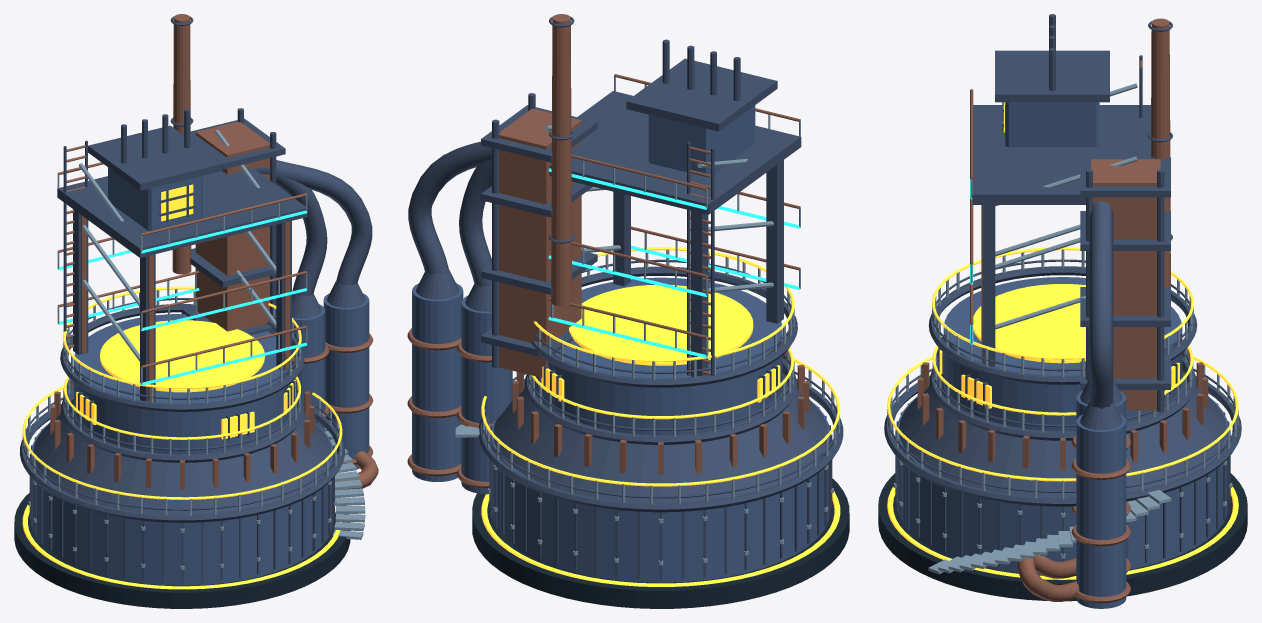
The model's file is furnace-v2.glb.
The picture shows the model from 3 angles, left to right: view 1: azimuth 30°, elevation 25°; view 2: azimuth 150°, elevation 25°; view 3: azimuth 270°, elevation 25°; orthographic projection. The views are drawn at different scales.
Parts seen in each view (by area): view 1: Riveted base drum, Sloped furnace skirt, Upper furnace drum, Main gantry deck, Circular concrete foundation, Visible furnace core, Service tower, Hot blast stove.001, Crown roof, Catwalk edge, Curved downcomer.001, Catwalk edge.002 (+33 smaller); view 2: Riveted base drum, Sloped furnace skirt, Upper furnace drum, Service tower, Circular concrete foundation, Main gantry deck, Visible furnace core, Hot blast stove.001, Crown roof, Factory chimney, Hot blast stove, Furnace control house (+25 smaller); view 3: Sloped furnace skirt, Riveted base drum, Main gantry deck, Service tower, Upper furnace drum, Hot blast stove.001, Circular concrete foundation, Visible furnace core, Crown roof, Curved downcomer.001, Furnace control house, Catwalk edge (+21 smaller).
Part boxes in pixels (bbox=[...]): Riveted base drum: bbox=[31, 422, 333, 585]; Sloped furnace skirt: bbox=[33, 399, 331, 514]; Upper furnace drum: bbox=[74, 314, 289, 454]; Main gantry deck: bbox=[57, 168, 307, 257]; Circular concrete foundation: bbox=[14, 493, 350, 608]; Visible furnace core: bbox=[100, 320, 264, 392]; Service tower: bbox=[195, 121, 269, 331]; Hot blast stove.001: bbox=[323, 293, 369, 469]; Crown roof: bbox=[88, 125, 222, 190]; Catwalk edge: bbox=[19, 404, 344, 522]; Curved downcomer.001: bbox=[258, 160, 372, 285]; Catwalk edge.002: bbox=[60, 304, 304, 411]; Riveted base drum: bbox=[491, 399, 830, 582]; Sloped furnace skirt: bbox=[493, 373, 828, 502]; Upper furnace drum: bbox=[539, 277, 782, 435]; Service tower: bbox=[499, 109, 581, 377]; Circular concrete foundation: bbox=[472, 478, 849, 608]; Main gantry deck: bbox=[549, 91, 801, 214]; Visible furnace core: bbox=[569, 284, 753, 365]; Hot blast stove.001: bbox=[412, 283, 463, 481]; Crown roof: bbox=[626, 58, 777, 131]; Factory chimney: bbox=[551, 14, 572, 306]; Hot blast stove: bbox=[461, 295, 512, 494]; Furnace control house: bbox=[648, 105, 755, 176]; Sloped furnace skirt: bbox=[899, 371, 1226, 497]; Riveted base drum: bbox=[897, 396, 1228, 574]; Main gantry deck: bbox=[972, 105, 1150, 204]; Service tower: bbox=[1091, 159, 1160, 410]; Upper furnace drum: bbox=[943, 277, 1182, 431]; Hot blast stove.001: bbox=[1076, 414, 1126, 608]; Circular concrete foundation: bbox=[878, 473, 1247, 601]; Visible furnace core: bbox=[973, 284, 1085, 363]; Crown roof: bbox=[995, 50, 1109, 102]; Curved downcomer.001: bbox=[1089, 208, 1113, 408]; Furnace control house: bbox=[1005, 102, 1099, 147]; Catwalk edge: bbox=[884, 376, 1241, 506].
Size of the model in its own units: 6.41 by 8.3 by 5.3.
